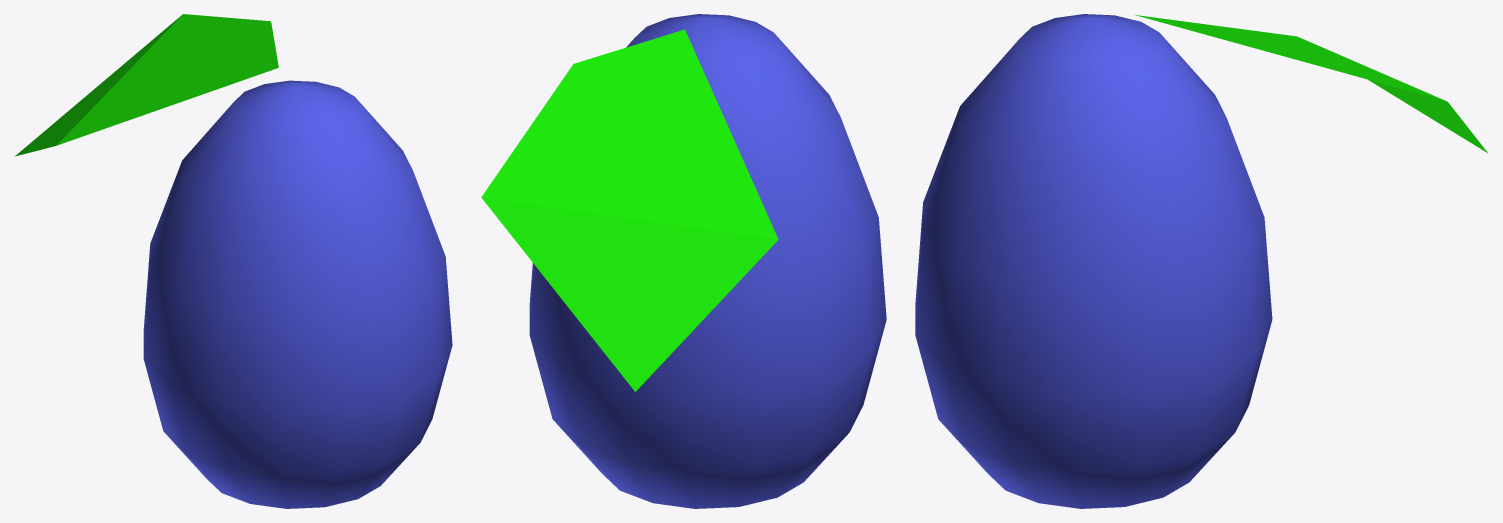
Rendered from berry.fbx.
The picture shows the model from 3 angles, left to right: view 1: azimuth 30°, elevation 25°; view 2: azimuth 150°, elevation 25°; view 3: azimuth 270°, elevation 25°; orthographic projection. The views are drawn at different scales.
Visible parts, largest first — view 1: Egg, Plane; view 2: Egg, Plane; view 3: Egg, Plane.
Part boxes in pixels (x1,y1,x2,y2): Egg: [143, 80, 452, 508]; Plane: [15, 14, 278, 156]; Egg: [529, 14, 886, 508]; Plane: [481, 29, 778, 391]; Egg: [915, 14, 1272, 508]; Plane: [1135, 15, 1487, 152].
Size of the model in its own units: 71.78 by 100 by 108.
